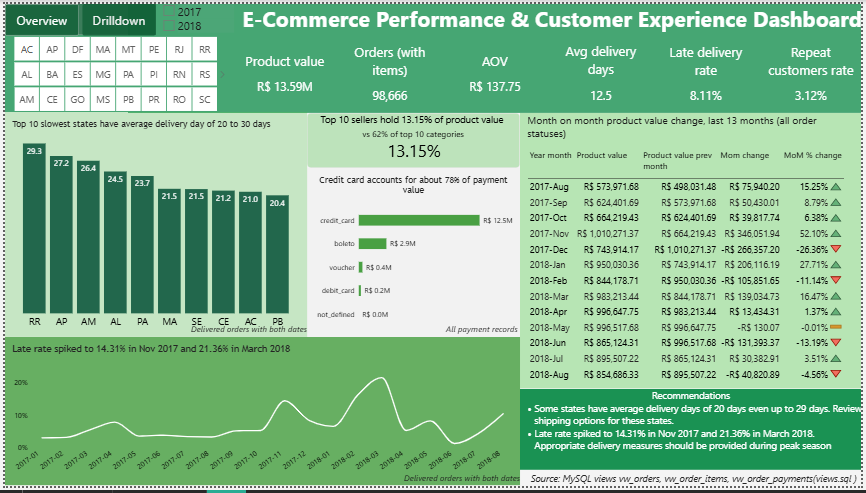

Layout of this report page (visuals, bound fields, positions):
{"tool":"powerbi","page":{"name":"Drilldown","canvas":[1920,1080],"ordinal":1},"visuals":[{"type":"textbox","box":[275.6,0,1644.6,244.2],"z":0,"group":"g1"},{"type":"cardVisual","fields":{"Data":["olist_analytics vw_orders.AOV"]},"box":[984.5,69.5,228.2,171.7],"z":0,"group":"g2"},{"type":"clusteredBarChart","title":"Credit card accounts for about 78% of payment value","fields":{"Category":["olist_analytics vw_order_payments.payment_type"],"Y":["Sum(olist_analytics vw_order_payments.payment_value)"]},"box":[676.7,367.5,477.3,378.7],"z":0},{"type":"group","id":"g1","title":"Group 2","box":[0,0,1920.2,244.2],"z":1000},{"type":"group","id":"g2","title":"Group 1","box":[513.1,69.5,1407.1,172.5],"z":1000,"group":"g1"},{"type":"cardVisual","fields":{"Data":["olist_analytics vw_orders.Avg delivery days"]},"box":[1220.2,69.5,228.2,171.7],"z":1000,"group":"g2"},{"type":"cardVisual","fields":{"Data":["olist_analytics vw_orders.Late delivery rate"]},"box":[1455.9,69.5,228.2,171.7],"z":2000,"group":"g2"},{"type":"slicer","fields":{"Values":["olist_analytics vw_orders.customer_state"]},"box":[0,72.7,493.7,169.7],"z":2000},{"type":"slicer","fields":{"Values":["Calendar_table.Year"]},"box":[347.3,0,165.8,71.7],"z":3000},{"type":"cardVisual","fields":{"Data":["olist_analytics vw_orders.Orders"]},"box":[748.8,69.5,228.2,171.7],"z":3000,"group":"g2"},{"type":"cardVisual","fields":{"Data":["olist_analytics vw_orders.Product value"]},"box":[513.1,69.5,228.2,171.7],"z":4000,"group":"g2"},{"type":"clusteredColumnChart","title":"Top 10 slowest states have average delivery day of 20 to 30 days","fields":{"Category":["olist_analytics vw_orders.customer_state"],"Y":["olist_analytics vw_orders.Avg delivery days"]},"box":[0,242,676.7,504.1],"z":4000},{"type":"cardVisual","fields":{"Data":["olist_analytics vw_orders.Repeat customers rate"]},"box":[1691.6,69.5,228.6,172.5],"z":5000,"group":"g2"},{"type":"textbox","box":[1154,861.7,766,181.4],"z":5000},{"type":"shape","box":[0,0,338.3,69.5],"z":6000},{"type":"pageNavigator","box":[0,0,338.3,71.7],"z":7000},{"type":"lineChart","title":"Late rate spiked to 14.31% in Nov 2017 and 21.36% in March 2018","fields":{"Category":["olist_analytics vw_orders.purchase_month"],"Y":["olist_analytics vw_orders.Late delivery rate"]},"box":[0,746.1,1153.9,331.6],"z":8000},{"type":"shape","box":[0,69.5,275.6,172.5],"z":8001,"group":"g1"},{"type":"tableEx","title":"Month on month product value change, last 13 months (all order statuses)","fields":{"Values":["Calendar_table.Year_month","olist_analytics vw_orders.Product value","olist_analytics vw_orders.Product value prev month","olist_analytics vw_orders.Mom change","olist_analytics vw_orders.MoM % change"]},"box":[1154,244.4,766,617.3],"z":9000},{"type":"textbox","box":[976.9,710.3,177,35.9],"z":10000},{"type":"textbox","box":[347.3,710.3,329.4,35.9],"z":11000},{"type":"textbox","box":[835.8,1044.1,318.2,33.6],"z":12000},{"type":"textbox","box":[1131.5,1044.1,788.7,33.6],"z":13000},{"type":"cardVisual","title":"Top sellers hold 13.15% of product value ","fields":{"Data":["olist_analytics vw_orders.Top 10 sellers"]},"box":[676.7,244.2,477.3,123.2],"z":14000},{"type":"textbox","box":[677.8,244.4,476.2,60.5],"z":14001}]}

Visuals, with their boxes in screenshot pixels (x1, y1, x2, y2), scaled from the page's 1920x1080 canvas onto the 866x493 screenshot:
textbox: locate(124, 0, 865, 111)
cardVisual - olist_analytics vw_orders.AOV: locate(444, 32, 547, 110)
"Credit card accounts for about 78% of payment value" clusteredBarChart: locate(305, 168, 521, 341)
"Group 2" group: locate(0, 0, 865, 111)
"Group 1" group: locate(231, 32, 865, 110)
cardVisual - olist_analytics vw_orders.Avg delivery days: locate(550, 32, 653, 110)
cardVisual - olist_analytics vw_orders.Late delivery rate: locate(657, 32, 760, 110)
slicer - olist_analytics vw_orders.customer_state: locate(0, 33, 223, 111)
slicer - Calendar_table.Year: locate(157, 0, 231, 33)
cardVisual - olist_analytics vw_orders.Orders: locate(338, 32, 441, 110)
cardVisual - olist_analytics vw_orders.Product value: locate(231, 32, 334, 110)
"Top 10 slowest states have average delivery day of 20 to 30 days" clusteredColumnChart: locate(0, 110, 305, 341)
cardVisual - olist_analytics vw_orders.Repeat customers rate: locate(763, 32, 865, 110)
textbox: locate(521, 393, 865, 476)
shape: locate(0, 0, 153, 32)
pageNavigator: locate(0, 0, 153, 33)
"Late rate spiked to 14.31% in Nov 2017 and 21.36% in March 2018" lineChart: locate(0, 341, 520, 492)
shape: locate(0, 32, 124, 110)
"Month on month product value change, last 13 months (all order statuses)" tableEx: locate(521, 112, 865, 393)
textbox: locate(441, 324, 520, 341)
textbox: locate(157, 324, 305, 341)
textbox: locate(377, 477, 521, 492)
textbox: locate(510, 477, 865, 492)
"Top sellers hold 13.15% of product value " cardVisual: locate(305, 111, 521, 168)
textbox: locate(306, 112, 521, 139)
